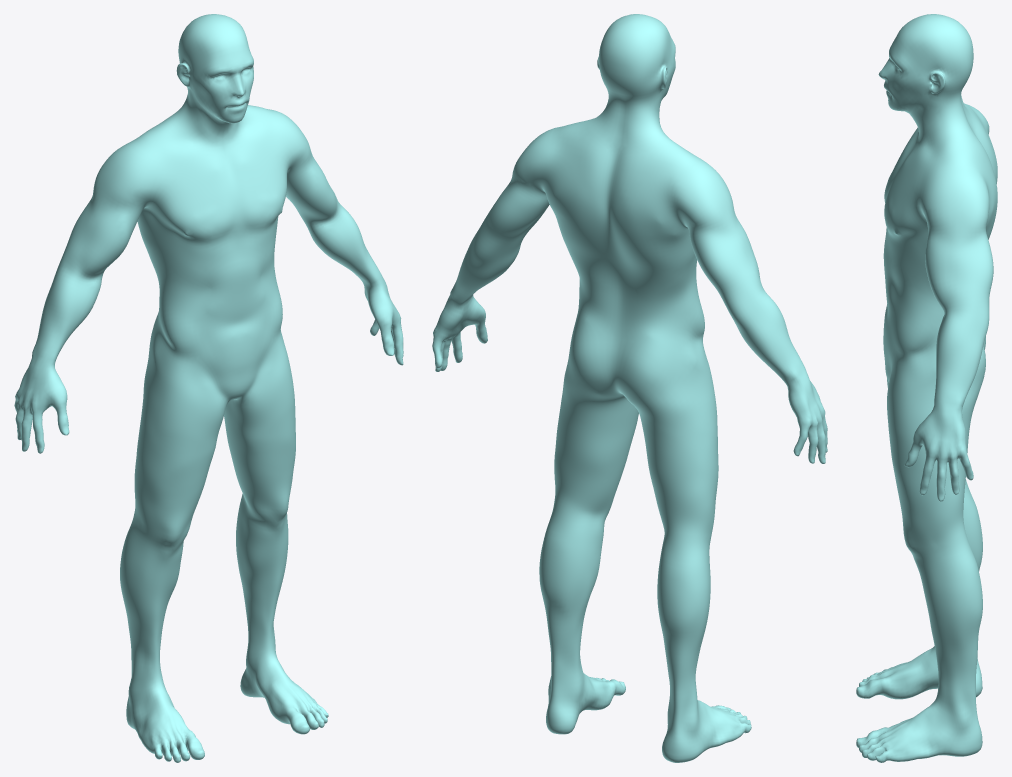
Rendered from malebody.glb.
3 views of the same model, side by side, from view 1: azimuth 30°, elevation 25°; view 2: azimuth 150°, elevation 25°; view 3: azimuth 270°, elevation 25° (orthographic).
Visible parts, largest first — view 1: FinalBaseMesh; view 2: FinalBaseMesh; view 3: FinalBaseMesh.
Boxes of the visible parts, bbox=[...] form: FinalBaseMesh: bbox=[14, 14, 403, 762]; FinalBaseMesh: bbox=[432, 14, 827, 762]; FinalBaseMesh: bbox=[856, 14, 997, 762].
Bounding box in the file's own units: 11.69 × 20.74 × 3.77.
